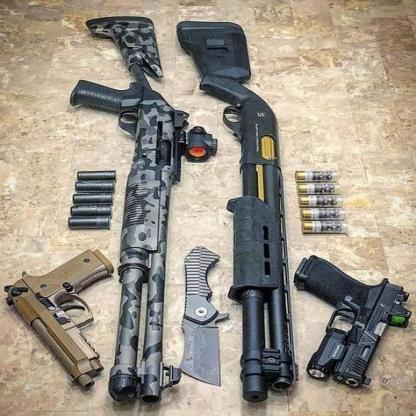Gun: (71, 13, 222, 405), (177, 19, 302, 406)
Knife: (177, 243, 230, 390)
Pistol: (4, 246, 116, 393), (295, 253, 413, 391)
